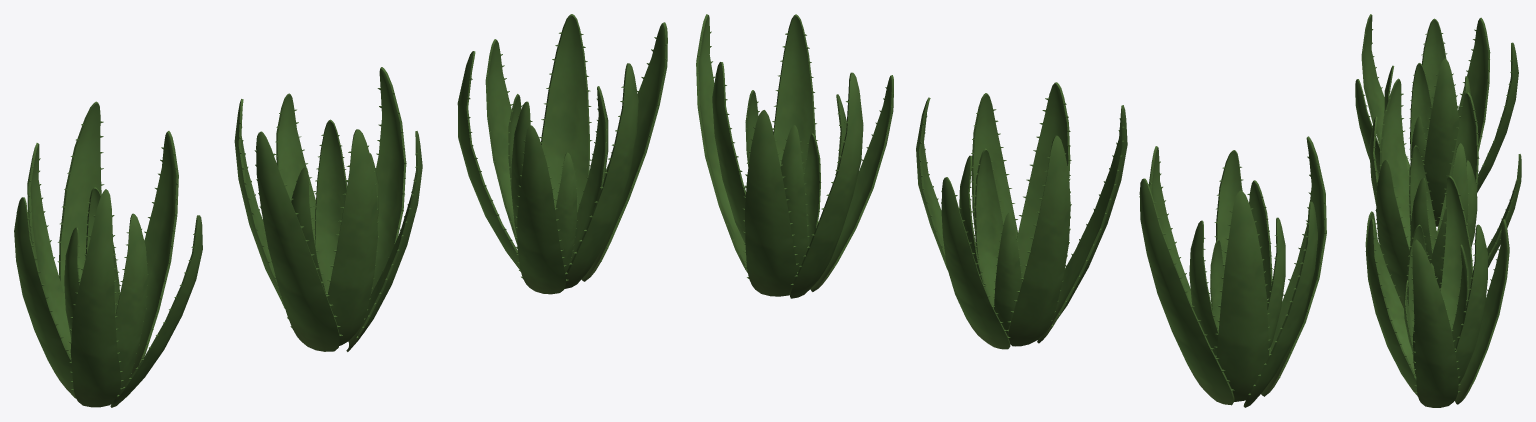
The model's file is D_Plant_004_a.fbx.
3 views of the same model, side by side, from view 1: azimuth 30°, elevation 25°; view 2: azimuth 150°, elevation 25°; view 3: azimuth 270°, elevation 25° (orthographic). The views are drawn at different scales.
Visible parts, largest first — view 1: D_Plant_004_a; view 2: D_Plant_004_a; view 3: D_Plant_004_a.
Boxes of the visible parts, x1,y1,x2,y2 form: D_Plant_004_a: (14,14,667,407); D_Plant_004_a: (696,14,1326,407); D_Plant_004_a: (1355,14,1521,407).
Size of the model in its own units: 0.8563 by 0.3186 by 0.2427.
Materials: 1 (1 with a texture image).
